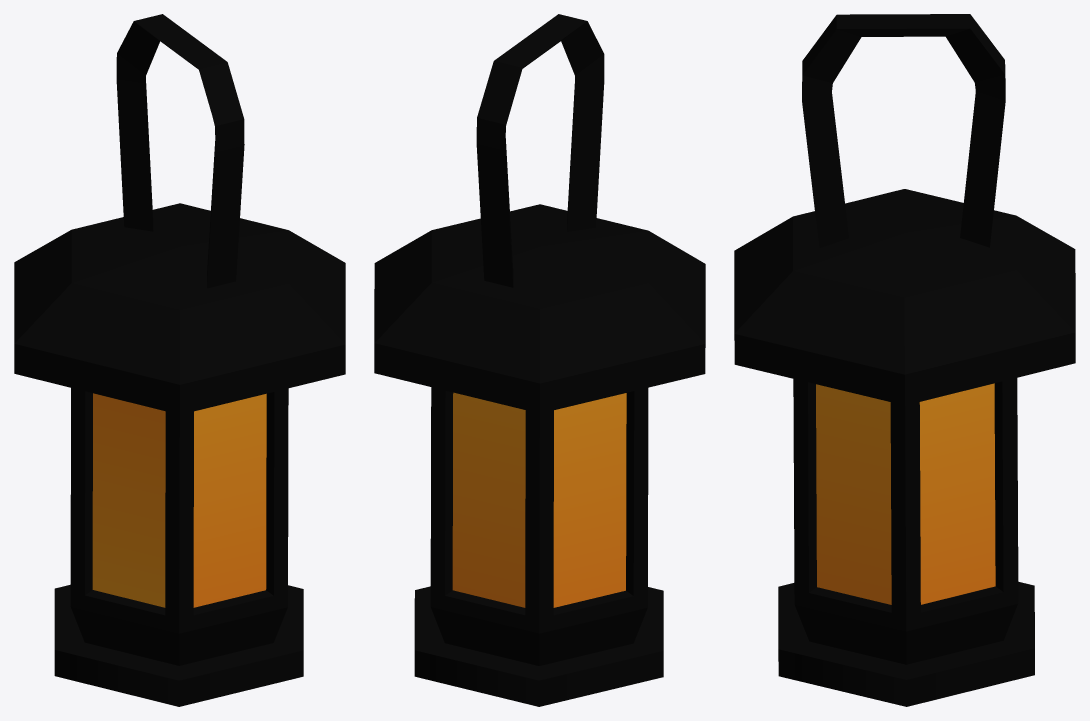
The model's file is Lantern.fbx.
The picture shows the model from 3 angles, left to right: view 1: azimuth 30°, elevation 25°; view 2: azimuth 150°, elevation 25°; view 3: azimuth 270°, elevation 25°; orthographic projection. The views are drawn at different scales.
Visible parts, largest first — view 1: Lantern; view 2: Lantern; view 3: Lantern.
Part boxes in pixels (x1,y1,x2,y2): Lantern: [14, 14, 345, 706]; Lantern: [374, 14, 705, 706]; Lantern: [734, 14, 1075, 706].
Size of the model in its own units: 89.68 by 157 by 77.7.
2 materials, 2 textured.
